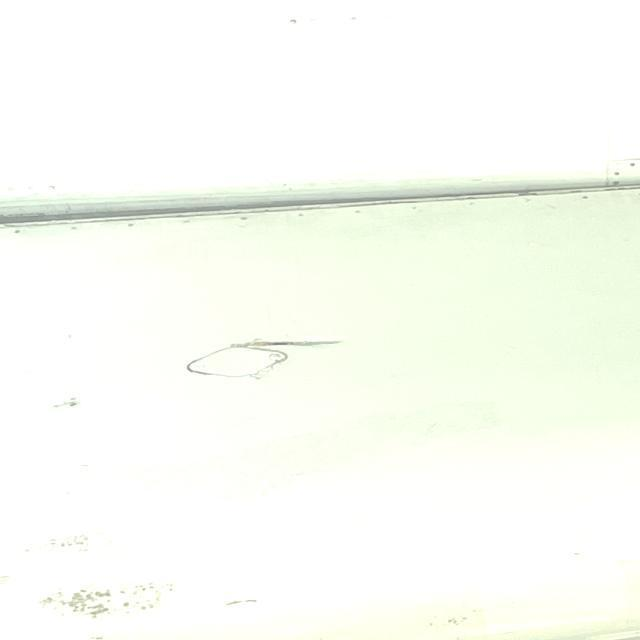crack: (237, 339, 335, 355)
